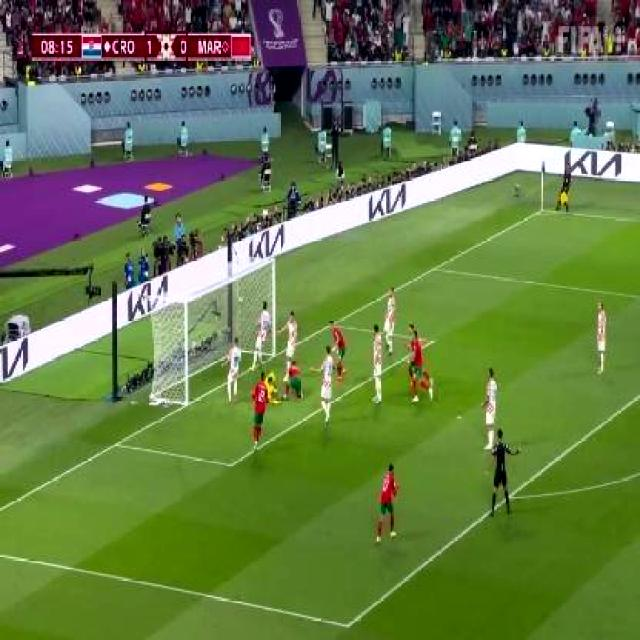bigarea_bottom_inner: (334, 606, 358, 640)
bigarea_top_outter: (426, 257, 445, 278)
bottom_arc_area_intersection: (503, 486, 520, 506)
corner: (531, 202, 554, 218)
smallarea_bottom_inner: (218, 448, 242, 480)
smallarea_bottom_outter: (105, 429, 126, 458)
smallarea_top_inner: (423, 328, 440, 352)
smallarea_top_outter: (323, 314, 339, 332)
